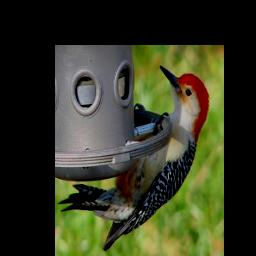Woodpecker: (58, 65, 209, 252)
